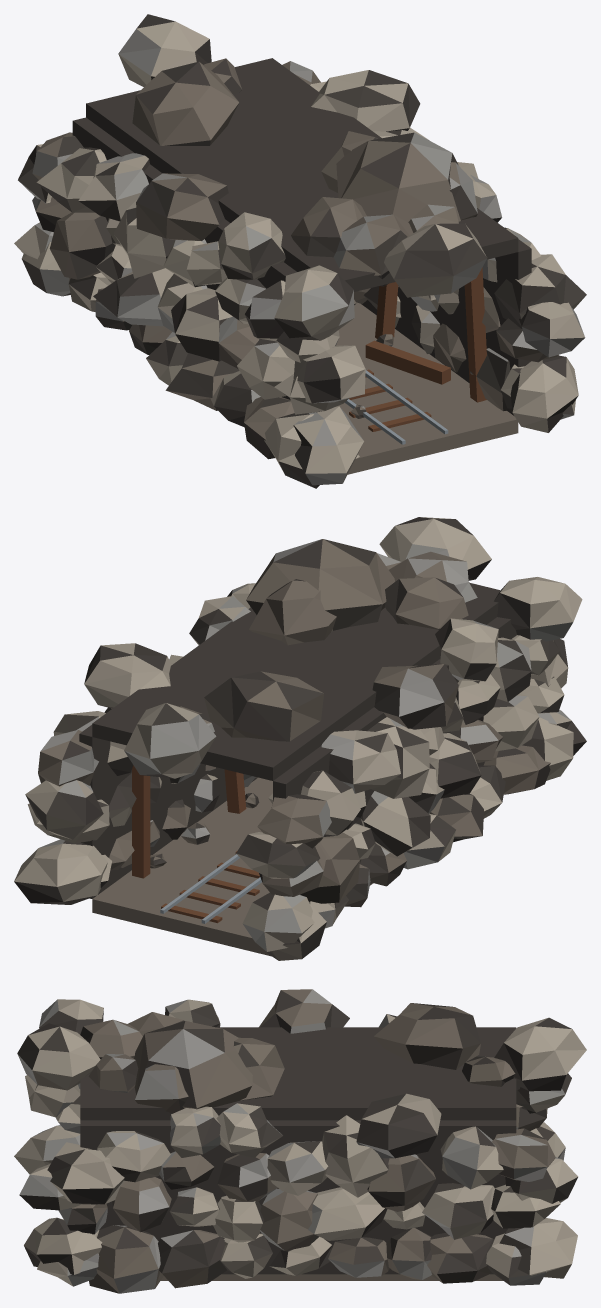
The model's file is Cave_Mines_Tunnel.fbx.
3 renders of one model, top to bottom at view 1: azimuth 30°, elevation 25°; view 2: azimuth 150°, elevation 25°; view 3: azimuth 270°, elevation 25°, orthographic. The views are drawn at different scales.
Visible parts, largest first — view 1: Decor, Ceiling1, Floor1, Wall1, Wall2; view 2: Decor, Ceiling1, Floor1, Wall1, Wall2; view 3: Decor, Ceiling1, Wall1, Floor1.
Part boxes in pixels (x1,y1,x2,y2): Decor: (14, 14, 586, 488); Ceiling1: (86, 58, 518, 291); Floor1: (336, 302, 518, 474); Wall1: (361, 239, 531, 415); Wall2: (72, 117, 296, 399); Decor: (14, 517, 586, 960); Ceiling1: (92, 583, 500, 780); Floor1: (92, 777, 373, 956); Wall1: (79, 724, 256, 898); Wall2: (273, 617, 516, 894); Decor: (14, 989, 586, 1293); Ceiling1: (80, 1027, 516, 1120); Wall1: (80, 1120, 516, 1274); Floor1: (160, 1274, 502, 1280).
Size of the model in its own units: 24.93 by 18.66 by 42.04.
